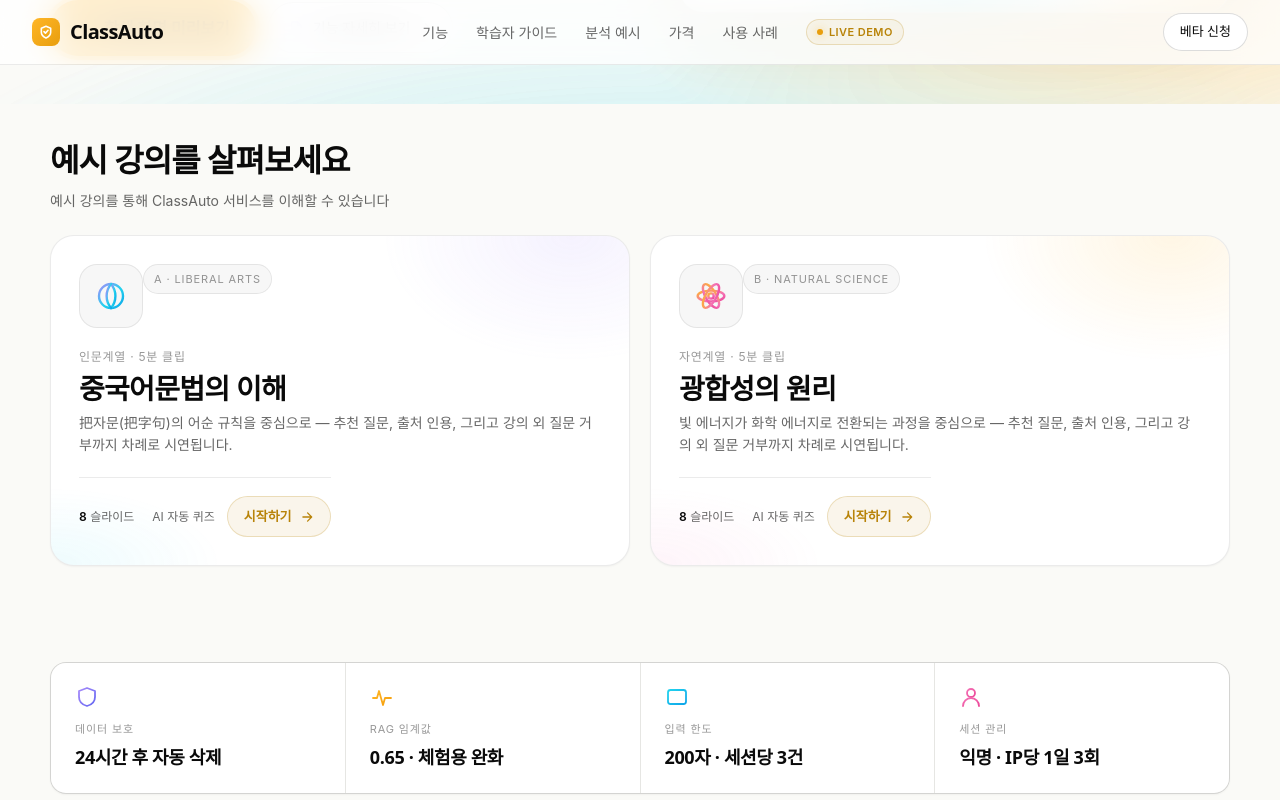
Test: DemoPage › transitions into the experience view after picking a field
(page scrolled)
Step 1. Click the button with test id "demo-field-social" → (340,401), box [50,235,630,566]
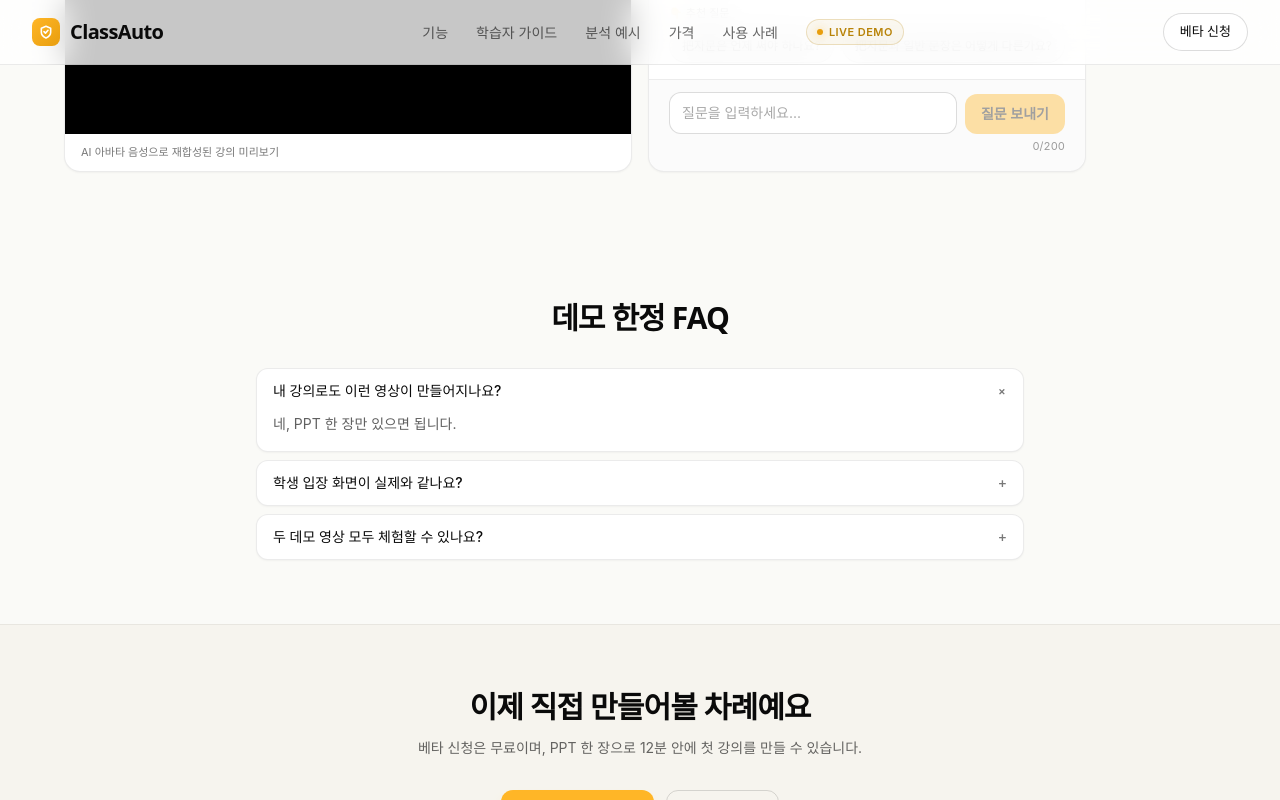
Check: the text box with test id "demo-input" is shown, box [669,92,957,134]
